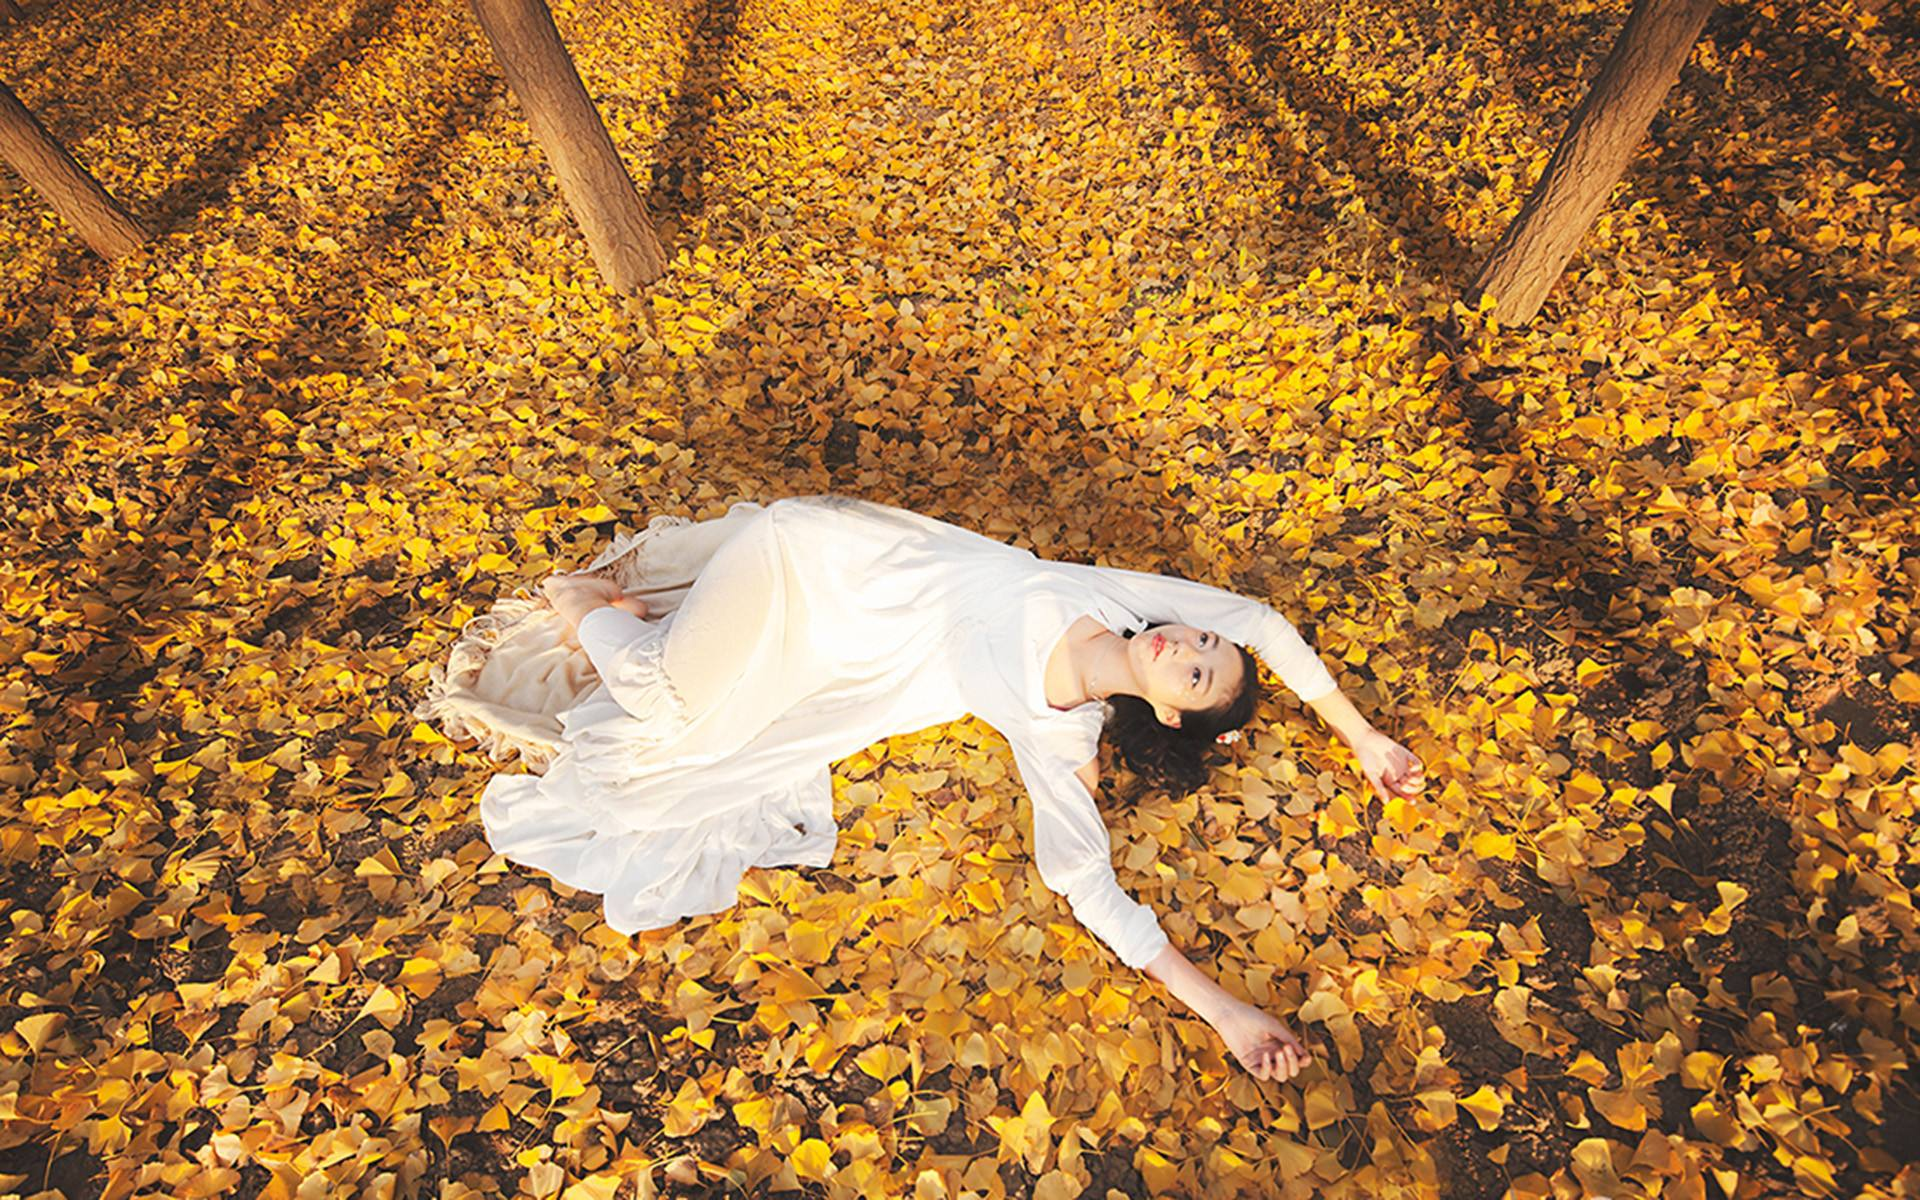person: (1029, 531, 1294, 924)
